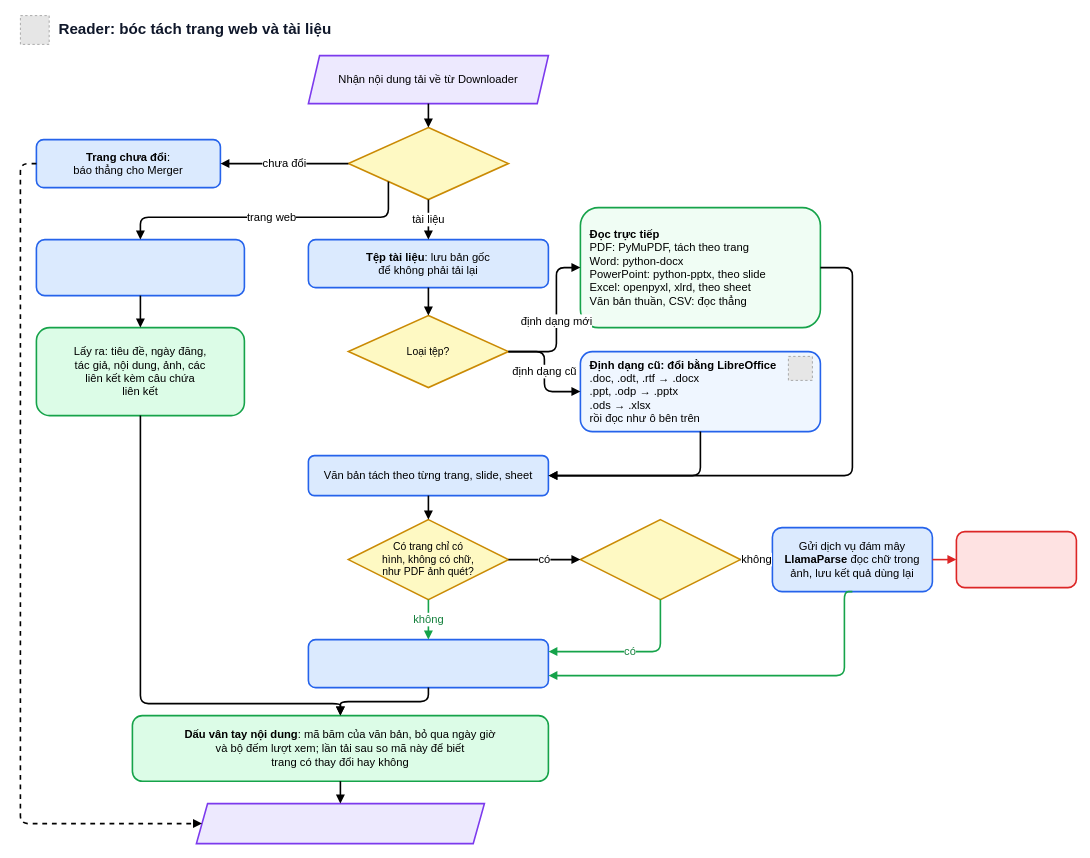
Some shapes in this 1090 by 858 pixel diagram are drawn without their labels. Grey dashed boxes stand in for pictures. Here are the shapes that lost their labels. From the top down, the centre of each, then its label:
[428,163]: Loại nội dung?
[140,267]: Trang web : tìm vùng nội dung chính, xem Hình 5
[660,559]: Trang này đã nhận dạng trước đây?
[1016,559]: Hết hạn mức dịch vụ: giữ phần chữ đã có
[428,663]: Ghép chữ nhận dạng được vào văn bản, nối các trang lại
[340,823]: Gửi bản ghi sang Merger
